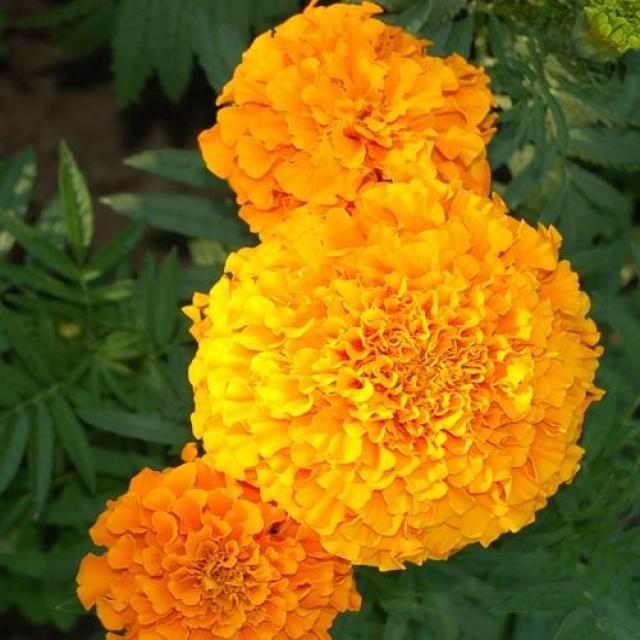marigold: (83, 195, 602, 640), (144, 2, 600, 320)
